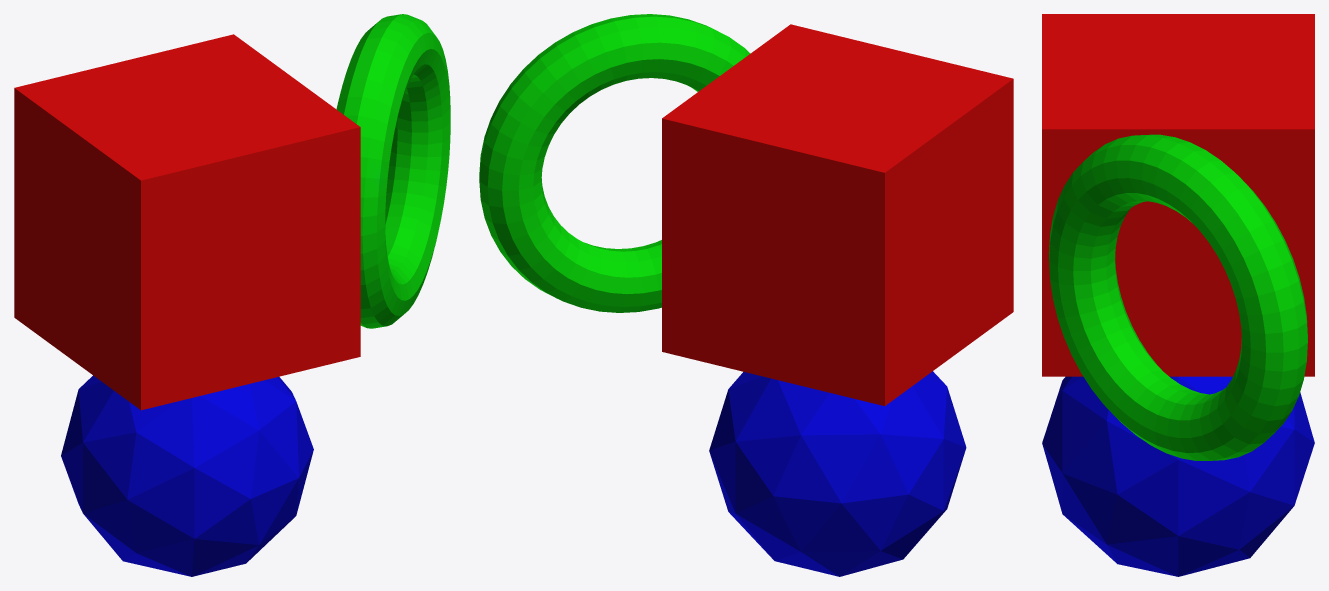
The model's file is basic-shapes.obj.
The picture shows the model from 3 angles, left to right: view 1: azimuth 30°, elevation 25°; view 2: azimuth 150°, elevation 25°; view 3: azimuth 270°, elevation 25°; orthographic projection. The views are drawn at different scales.
Visible parts, largest first — view 1: Cube, Icosphere, Torus; view 2: Cube, Icosphere, Torus; view 3: Cube, Torus, Icosphere.
Part boxes in pixels (x1,y1,x2,y2): Cube: [14, 34, 360, 410]; Icosphere: [61, 375, 313, 576]; Torus: [336, 14, 450, 328]; Cube: [662, 24, 1013, 406]; Icosphere: [709, 371, 966, 576]; Torus: [479, 14, 750, 312]; Cube: [1042, 14, 1314, 376]; Torus: [1049, 134, 1307, 460]; Icosphere: [1042, 376, 1314, 576].
Bounding box in the file's own units: 3.77 × 4.27 × 2.
